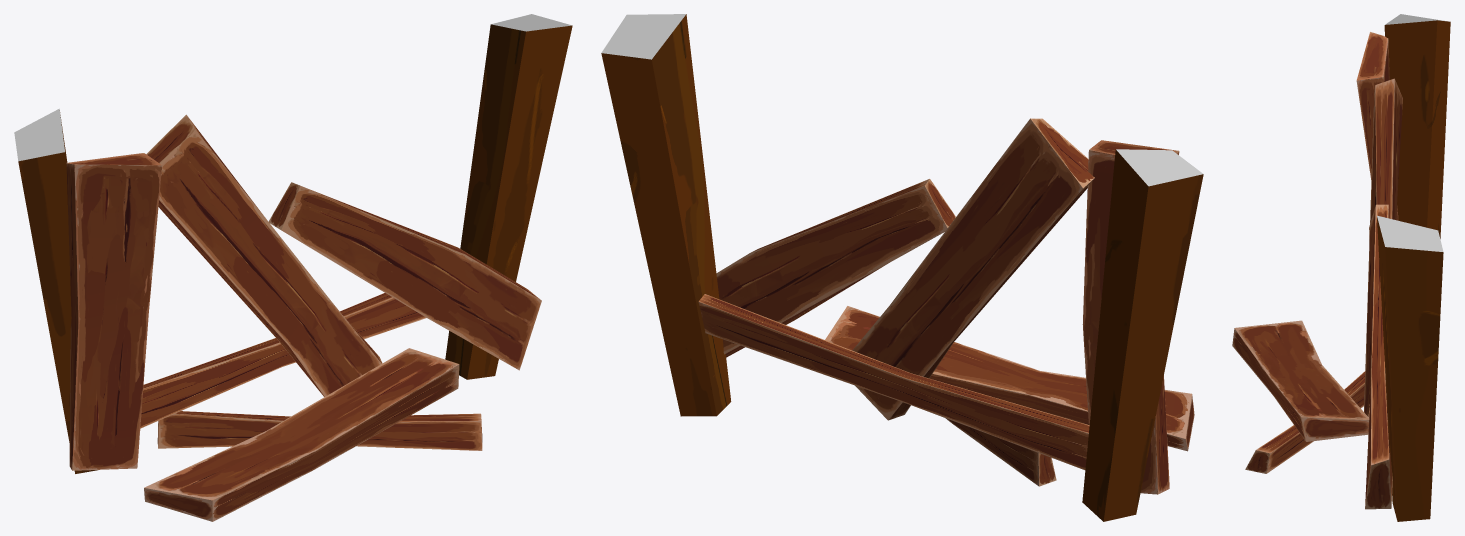
The model's file is SM_PROP_fence_v01_05.fbx.
3 renders of one model, left to right at view 1: azimuth 30°, elevation 25°; view 2: azimuth 150°, elevation 25°; view 3: azimuth 270°, elevation 25°, orthographic. The views are drawn at different scales.
Parts seen in each view (by area): view 1: SM_PROP_fence_v01_05; view 2: SM_PROP_fence_v01_05; view 3: SM_PROP_fence_v01_05.
Boxes of the visible parts, x1,y1,x2,y2 form: SM_PROP_fence_v01_05: (14, 14, 572, 521); SM_PROP_fence_v01_05: (601, 14, 1203, 521); SM_PROP_fence_v01_05: (1232, 14, 1450, 521).
Size of the model in its own units: 327 by 202 by 125.
